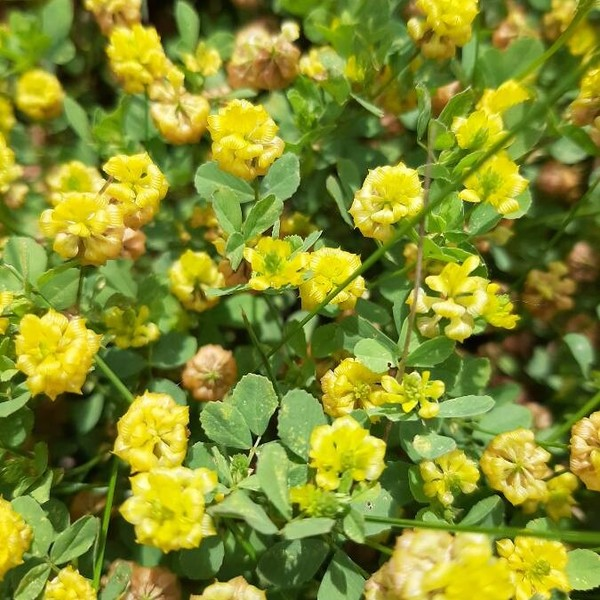obstacle: (38, 69, 592, 543)
